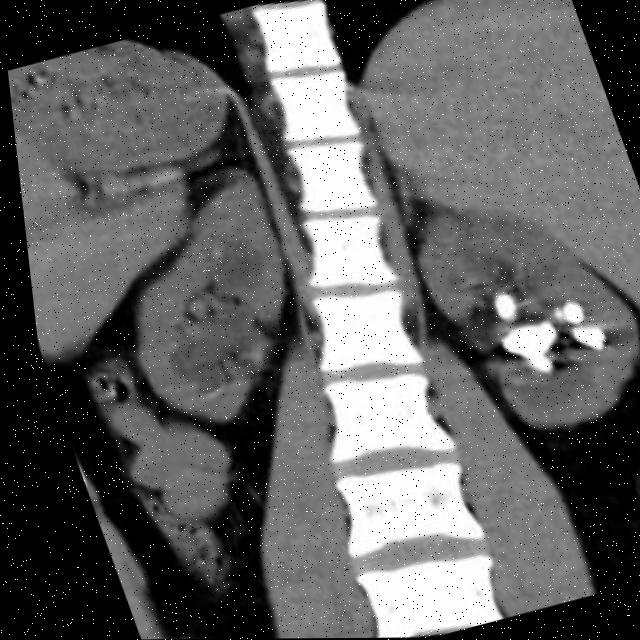Tas_Var: (481, 312, 563, 389), (554, 316, 605, 359), (472, 282, 517, 327), (548, 292, 580, 334), (540, 301, 561, 329)
